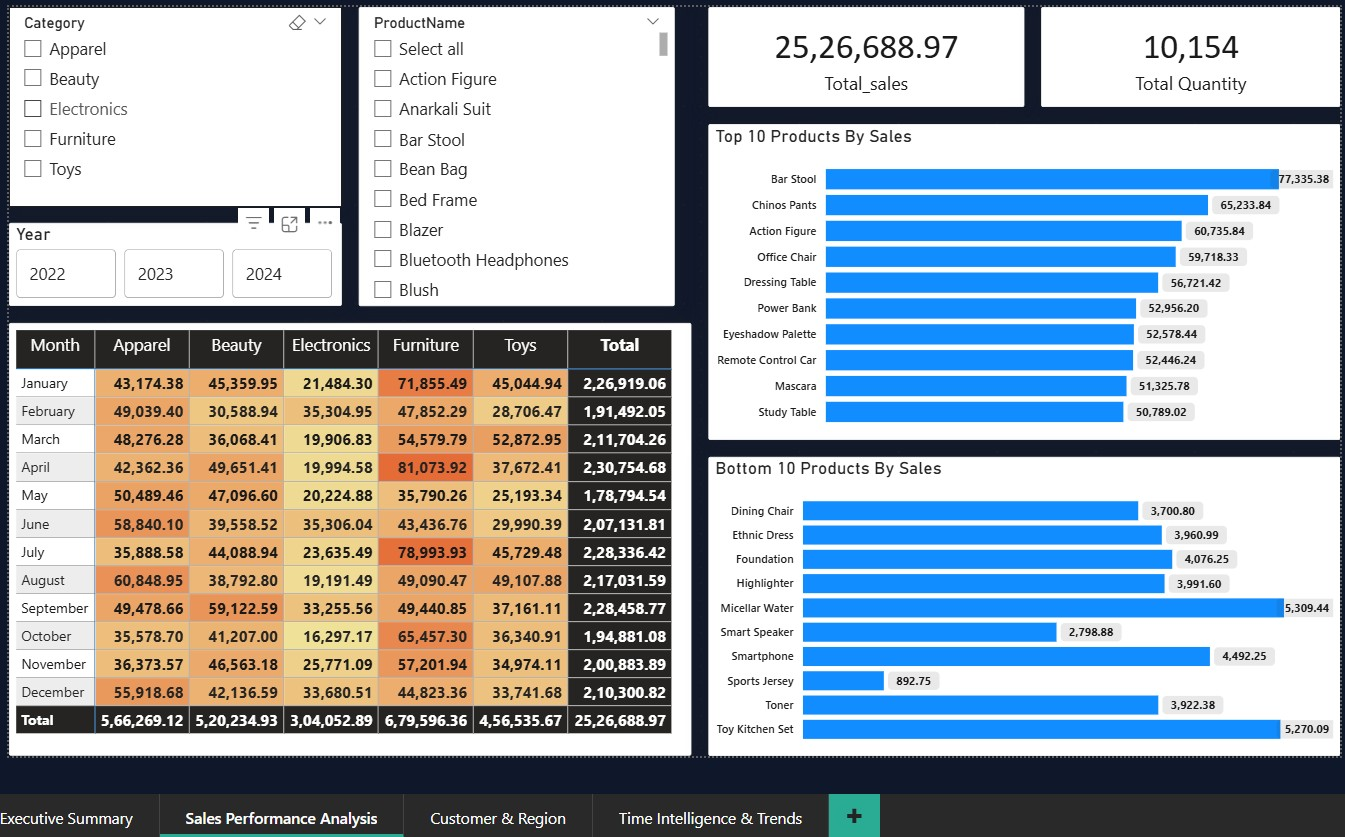

This screenshot's page, from the dashboard's own definition file:
{"tool":"powerbi","page":{"name":"Sales Performance Analysis","canvas":[1280,720],"ordinal":1},"visuals":[{"type":"pivotTable","fields":{"Rows":["Dim_date.Date.Variation.Date Hierarchy.Month"],"Columns":["Products.Category"],"Values":["Orders.Total_sales"]},"box":[0,304,656,416],"z":0},{"type":"clusteredBarChart","title":"Top 10 Products By Sales","fields":{"Y":["Orders.Total_sales"],"Category":["Products.ProductName"]},"box":[672,112,608,304],"z":1000},{"type":"card","fields":{"Values":["Orders.Total_sales"]},"box":[672,0,304,96],"z":2000},{"type":"card","fields":{"Values":["Orders.Total Quantity"]},"box":[992,0,288,96],"z":3000},{"type":"clusteredBarChart","title":"Bottom 10  Products By Sales","fields":{"Y":["Orders.Total_sales"],"Category":["Products.ProductName"]},"box":[672,432,608,288],"z":4000},{"type":"advancedSlicerVisual","fields":{"Values":["Dim_date.Date.Variation.Date Hierarchy.Year"]},"box":[0,208,320,80],"z":5000},{"type":"slicer","fields":{"Values":["Products.Category"]},"box":[0,0,320,192],"z":6000},{"type":"slicer","fields":{"Values":["Products.ProductName"]},"box":[336,0,304,288],"z":7000}]}

Visuals, with their boxes in screenshot pixels (x1, y1, x2, y2):
pivotTable - Dim_date.Date.Variation.Date Hierarchy.Month x Products.Category: (7,319,687,750)
"Top 10 Products By Sales" clusteredBarChart: (703,120,1333,435)
card - Orders.Total_sales: (703,4,1018,103)
card - Orders.Total Quantity: (1035,4,1333,103)
"Bottom 10  Products By Sales" clusteredBarChart: (703,451,1333,750)
advancedSlicerVisual - Dim_date.Date.Variation.Date Hierarchy.Year: (7,219,339,302)
slicer - Products.Category: (7,4,339,202)
slicer - Products.ProductName: (355,4,670,302)
